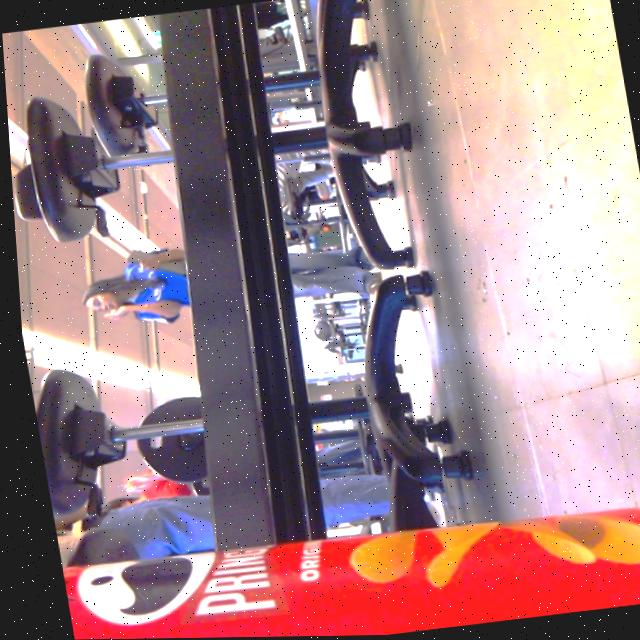redpringles: (44, 454, 640, 640)
